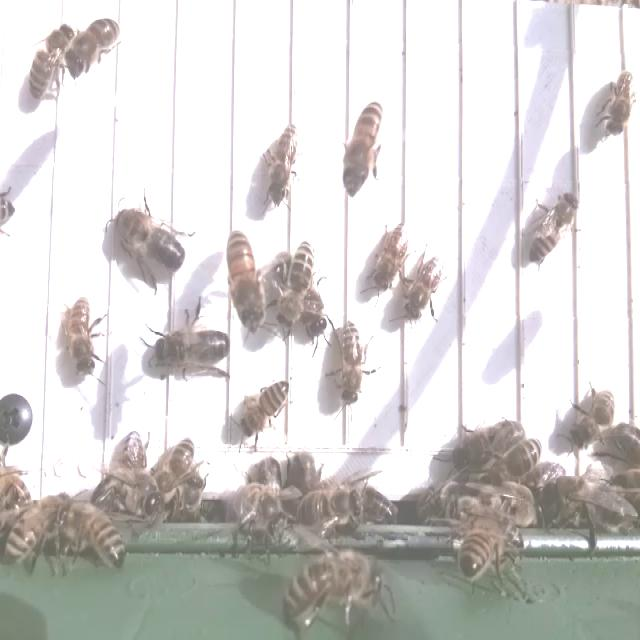Drone: (110, 203, 191, 278), (448, 411, 529, 473), (151, 319, 234, 379)
Worker: (223, 226, 269, 335), (339, 98, 387, 201), (526, 187, 582, 270), (25, 20, 75, 109), (66, 11, 122, 85), (274, 235, 315, 333), (237, 375, 294, 438), (401, 251, 447, 325), (571, 385, 618, 453), (63, 291, 98, 378), (370, 223, 410, 294), (270, 118, 302, 204), (336, 316, 365, 410), (604, 63, 638, 141)
